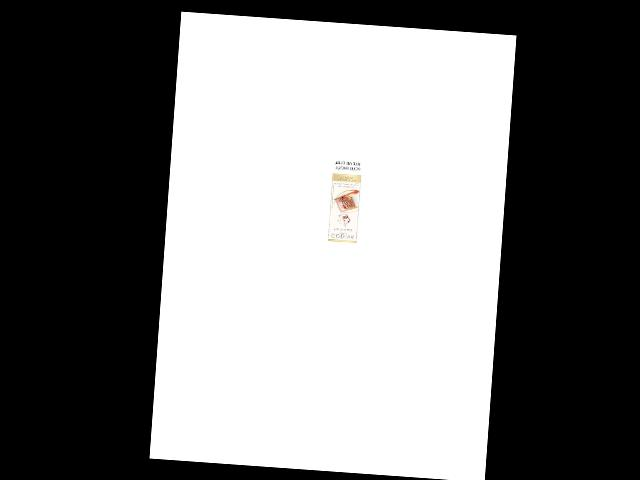chocolate: (328, 170, 363, 244)
